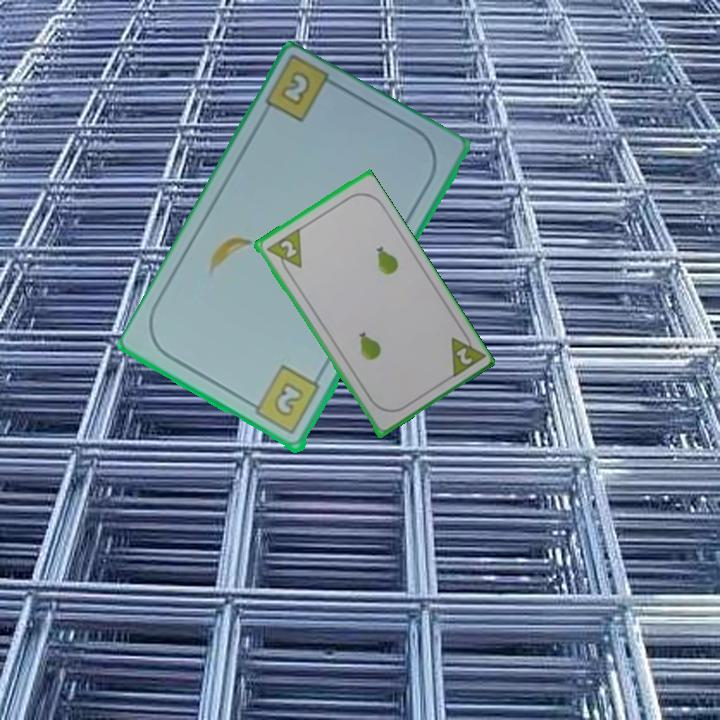2b: (245, 362, 323, 438), (277, 68, 314, 110)
2p: (262, 225, 305, 278), (446, 326, 486, 382)
